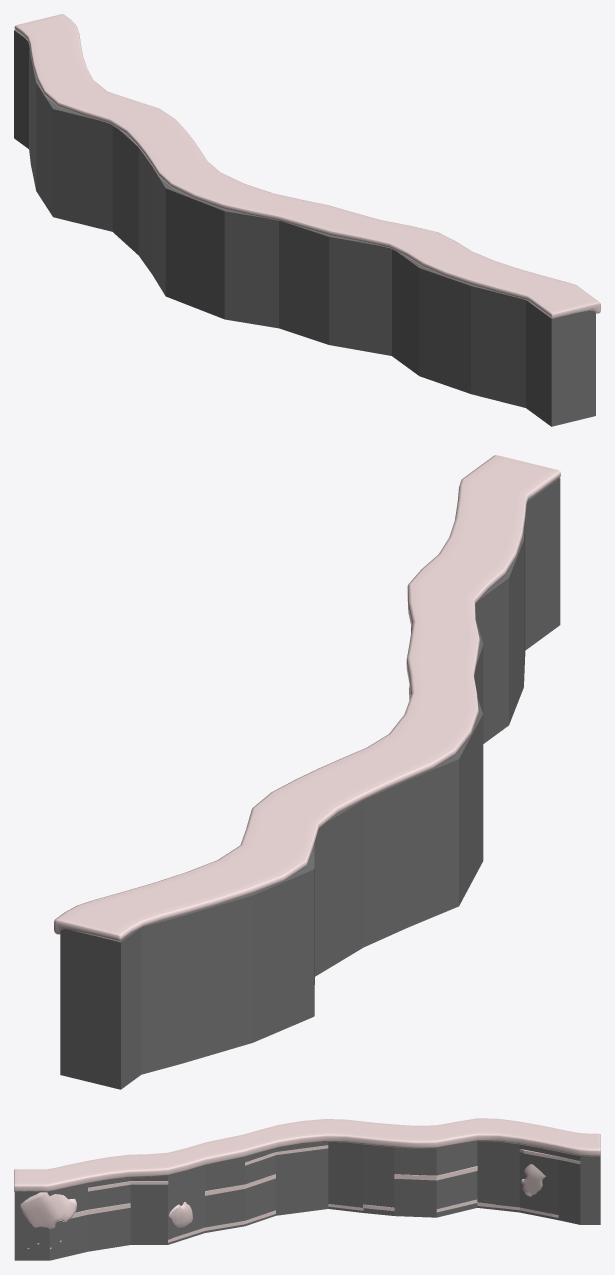
File: CliffPrototype.fbx
3 renders of one model, top to bottom at view 1: azimuth 30°, elevation 25°; view 2: azimuth 150°, elevation 25°; view 3: azimuth 270°, elevation 25°, orthographic. The views are drawn at different scales.
Visible parts, largest first — view 1: pCube60, pCube61; view 2: pCube60, pCube61; view 3: pCube60, pCube61, pasted__pCube194, pasted__pCube192, pCube70, pasted__pCube193, pCube65, pCube66, pCube63, pCube64, pCube67, pCube72 (+1 smaller).
Part boxes in pixels (box(x1,y1,x2,y2)): pCube60: box(14, 30, 595, 426); pCube61: box(14, 14, 600, 318); pCube60: box(60, 477, 560, 1089); pCube61: box(54, 455, 560, 941); pCube60: box(14, 1141, 600, 1260); pCube61: box(14, 1118, 600, 1191); pasted__pCube194: box(20, 1192, 76, 1229); pasted__pCube192: box(521, 1164, 545, 1196); pCube70: box(394, 1166, 477, 1180); pasted__pCube193: box(168, 1202, 192, 1227); pCube65: box(168, 1210, 275, 1242); pCube66: box(205, 1174, 275, 1195); pCube63: box(88, 1181, 168, 1191); pCube64: box(58, 1203, 130, 1221); pCube67: box(245, 1145, 328, 1165); pCube72: box(477, 1202, 558, 1217).
Bounding box in the file's own units: 43.27 × 22.46 × 155.
